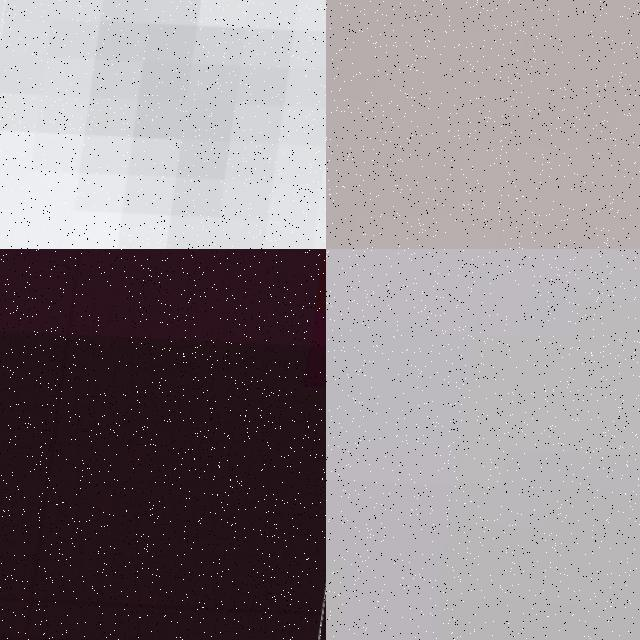0: (0, 249, 326, 640)
drone: (326, 249, 640, 640), (0, 0, 326, 249), (326, 0, 640, 249)
